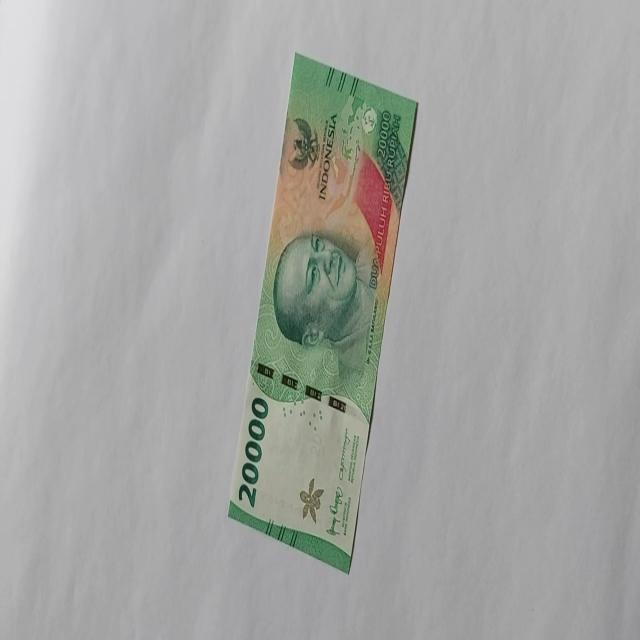dua puluh ribu rupiah: (226, 51, 418, 574)
